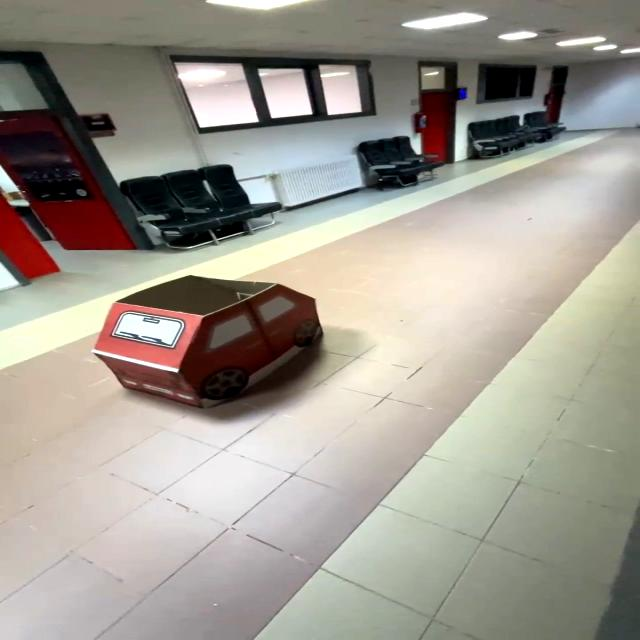red_car: (77, 268, 350, 415)
